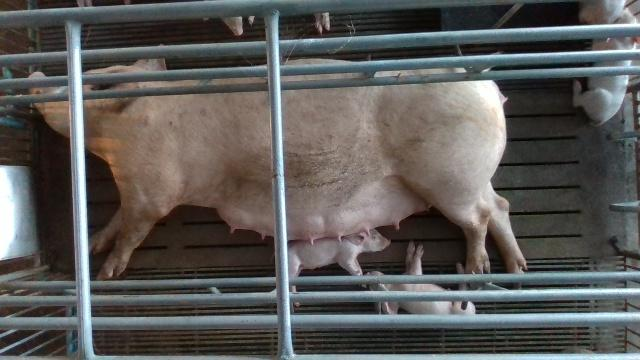piglet: (363, 240, 475, 315), (287, 229, 392, 307), (573, 10, 640, 126)
sow-sleep-lactate: (29, 57, 527, 287)
